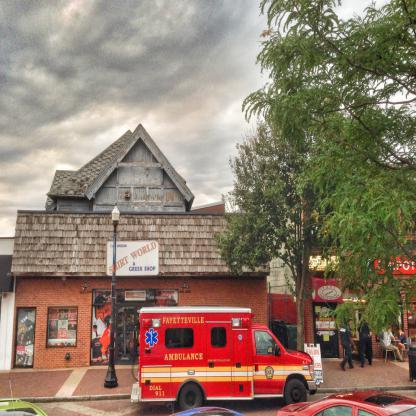Ambulance: (129, 307, 320, 408)
Car: (128, 311, 316, 410), (276, 390, 416, 416), (0, 376, 50, 415), (168, 405, 244, 416)
